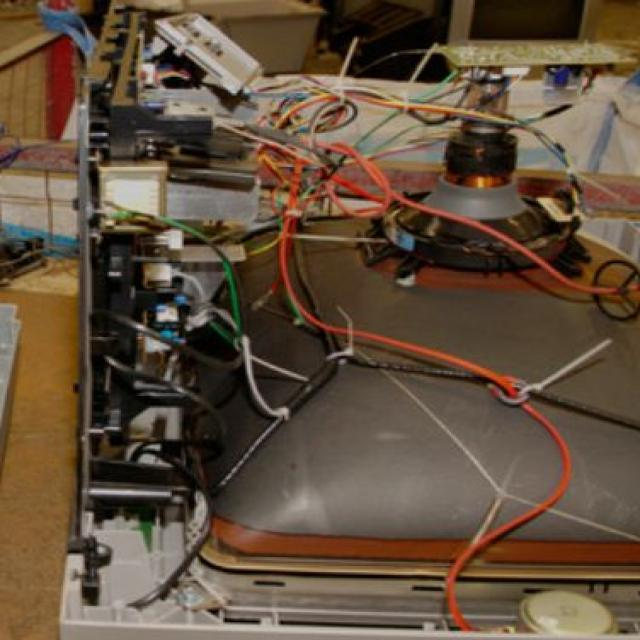electronic: (75, 53, 640, 588)
